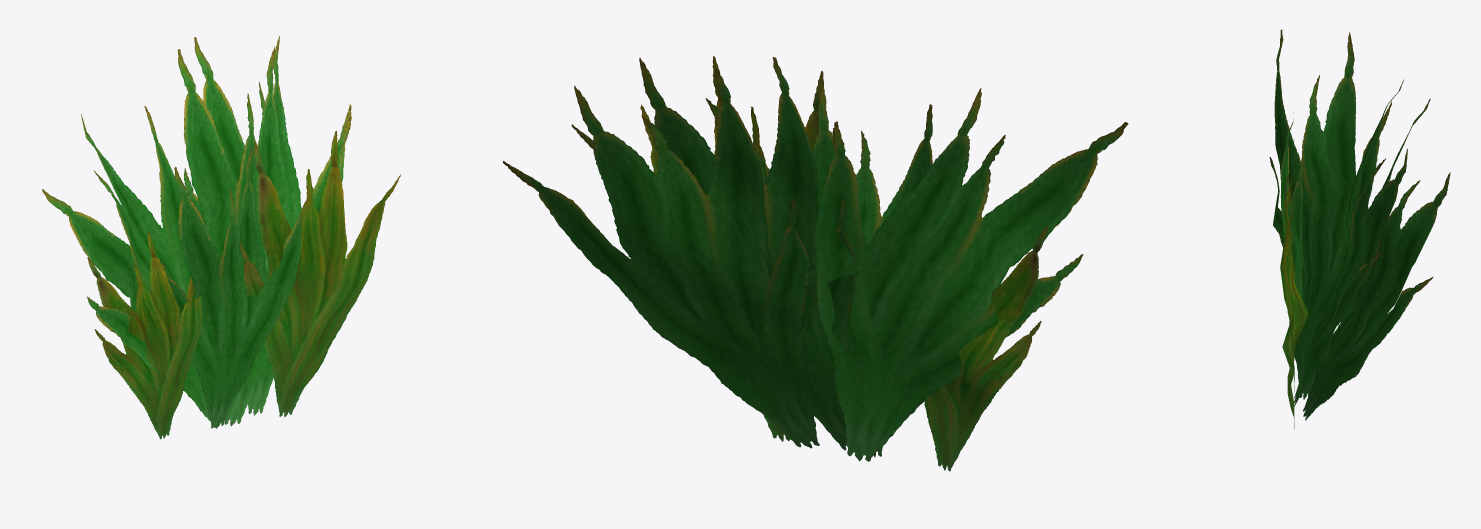
The model's file is GrassClump06.fbx.
The picture shows the model from 3 angles, left to right: view 1: azimuth 30°, elevation 25°; view 2: azimuth 150°, elevation 25°; view 3: azimuth 270°, elevation 25°; orthographic projection. The views are drawn at different scales.
Parts seen in each view (by area): view 1: GrassClump06; view 2: GrassClump06; view 3: GrassClump06.
Part boxes in pixels (x1=…): GrassClump06: x1=42, y1=36, x2=400, y2=439; GrassClump06: x1=503, y1=56, x2=1128, y2=471; GrassClump06: x1=1269, y1=29, x2=1450, y2=429.
Size of the model in its own units: 4.83 by 4.25 by 2.18.
